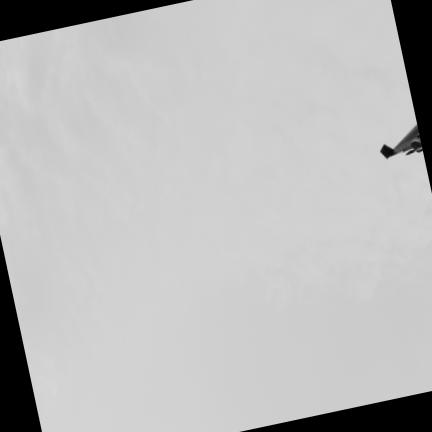Shahed: (380, 124, 423, 158)
